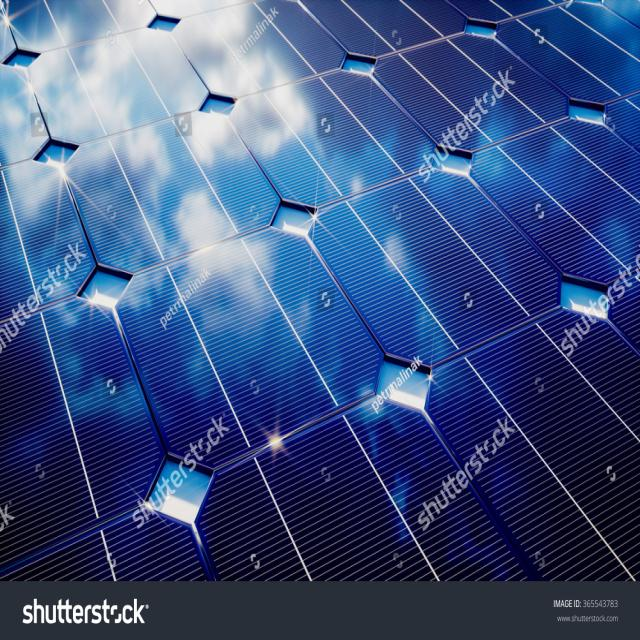clean-solar-panel: (1, 0, 640, 580)
